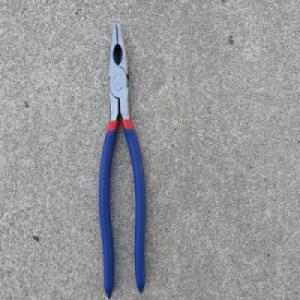Pliers: (96, 19, 147, 300)
